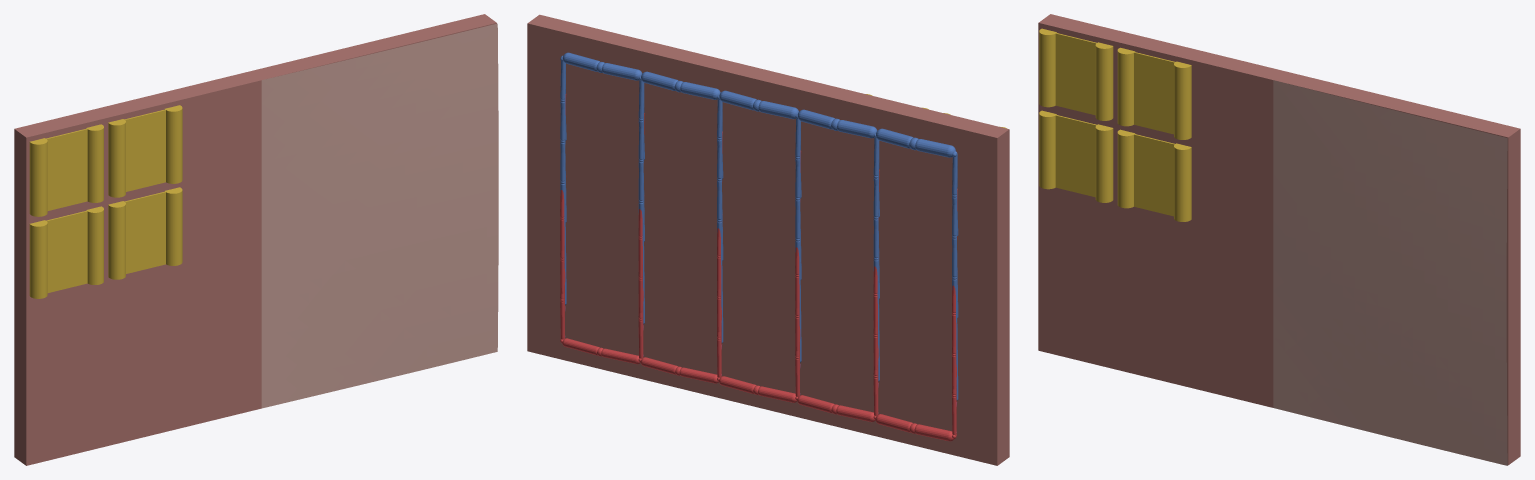
Rendered from dranmar_perfused_tissue_dressing_compression.glb.
3 renders of one model, left to right at view 1: azimuth 30°, elevation 25°; view 2: azimuth 150°, elevation 25°; view 3: azimuth 330°, elevation 25°, orthographic.
Visible parts, largest first — view 1: TissueSurface, TissueBulk, Overlay_3, Overlay_2, Overlay_0, Overlay_1; view 2: TissueBulk, VT0, VT1, VT2, VT3, VT4, AT0, AT1, AT2, AT3, AT4, VB05 (+5 smaller); view 3: TissueSurface, TissueBulk, Overlay_0, Overlay_1, Overlay_2, Overlay_3.
Part boxes in pixels (x1,y1,x2,y2): TissueSurface: (261, 23, 498, 408); TissueBulk: (14, 14, 496, 465); Overlay_3: (108, 105, 182, 197); Overlay_2: (108, 187, 182, 279); Overlay_0: (29, 206, 103, 298); Overlay_1: (29, 124, 103, 216); TissueBulk: (527, 14, 1009, 465); VT0: (876, 128, 955, 157); VT1: (797, 109, 877, 138); VT2: (719, 90, 798, 119); VT3: (641, 71, 720, 99); VT4: (562, 52, 642, 80); AT0: (875, 414, 953, 441); AT1: (797, 395, 875, 422); AT2: (719, 376, 796, 402); AT3: (640, 357, 718, 383); AT4: (562, 338, 640, 364); VB05: (560, 63, 566, 304); TissueSurface: (1273, 80, 1507, 465); TissueBulk: (1038, 14, 1520, 465); Overlay_0: (1039, 110, 1113, 202); Overlay_1: (1039, 28, 1113, 120); Overlay_2: (1117, 129, 1191, 221); Overlay_3: (1117, 47, 1191, 139).
Size of the model in its own units: 0.18 by 0.12 by 0.0168.
